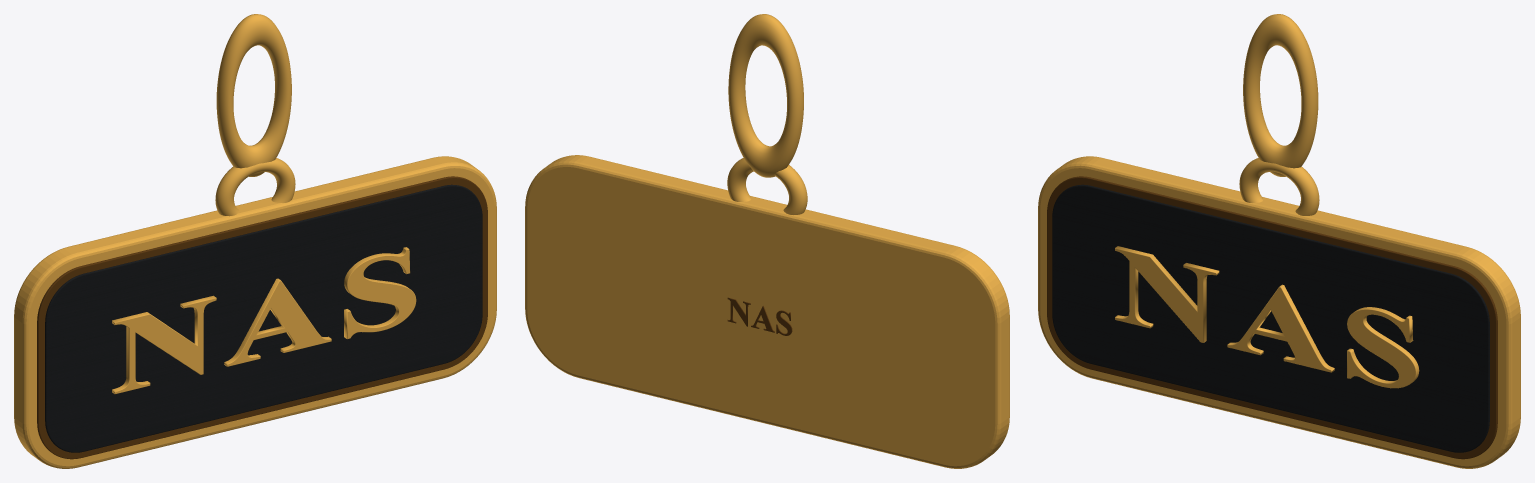
Rendered from 01_nas.glb.
The picture shows the model from 3 angles, left to right: view 1: azimuth 30°, elevation 25°; view 2: azimuth 150°, elevation 25°; view 3: azimuth 330°, elevation 25°; orthographic projection.
Visible parts, largest first — view 1: Inset charcoal leather, Solid rounded 18K gold frame, Raised gold NAS serif letters, Inner engraved shadow groove, Large oval gold bail, Welded lower eye; view 2: Solid rounded 18K gold frame, Large oval gold bail, Welded lower eye, Reverse NAS engraving; view 3: Inset charcoal leather, Solid rounded 18K gold frame, Raised gold NAS serif letters, Inner engraved shadow groove, Large oval gold bail, Welded lower eye.
Part boxes in pixels (x1,y1,x2,y2): Inset charcoal leather: [45, 184, 482, 452]; Solid rounded 18K gold frame: [14, 156, 496, 468]; Raised gold NAS serif letters: [112, 247, 416, 394]; Inner engraved shadow groove: [37, 176, 487, 459]; Large oval gold bail: [216, 14, 291, 176]; Welded lower eye: [215, 158, 295, 216]; Solid rounded 18K gold frame: [525, 155, 1009, 468]; Large oval gold bail: [728, 14, 803, 177]; Welded lower eye: [727, 158, 807, 214]; Reverse NAS engraving: [727, 297, 792, 335]; Inset charcoal leather: [1052, 184, 1489, 452]; Solid rounded 18K gold frame: [1038, 156, 1520, 468]; Raised gold NAS serif letters: [1115, 246, 1419, 388]; Inner engraved shadow groove: [1047, 176, 1497, 459]; Large oval gold bail: [1243, 14, 1318, 176]; Welded lower eye: [1239, 158, 1319, 215].
Bounding box in the file's own units: 0.0555 × 0.0452 × 0.00396.
3 materials, 1 textured.
